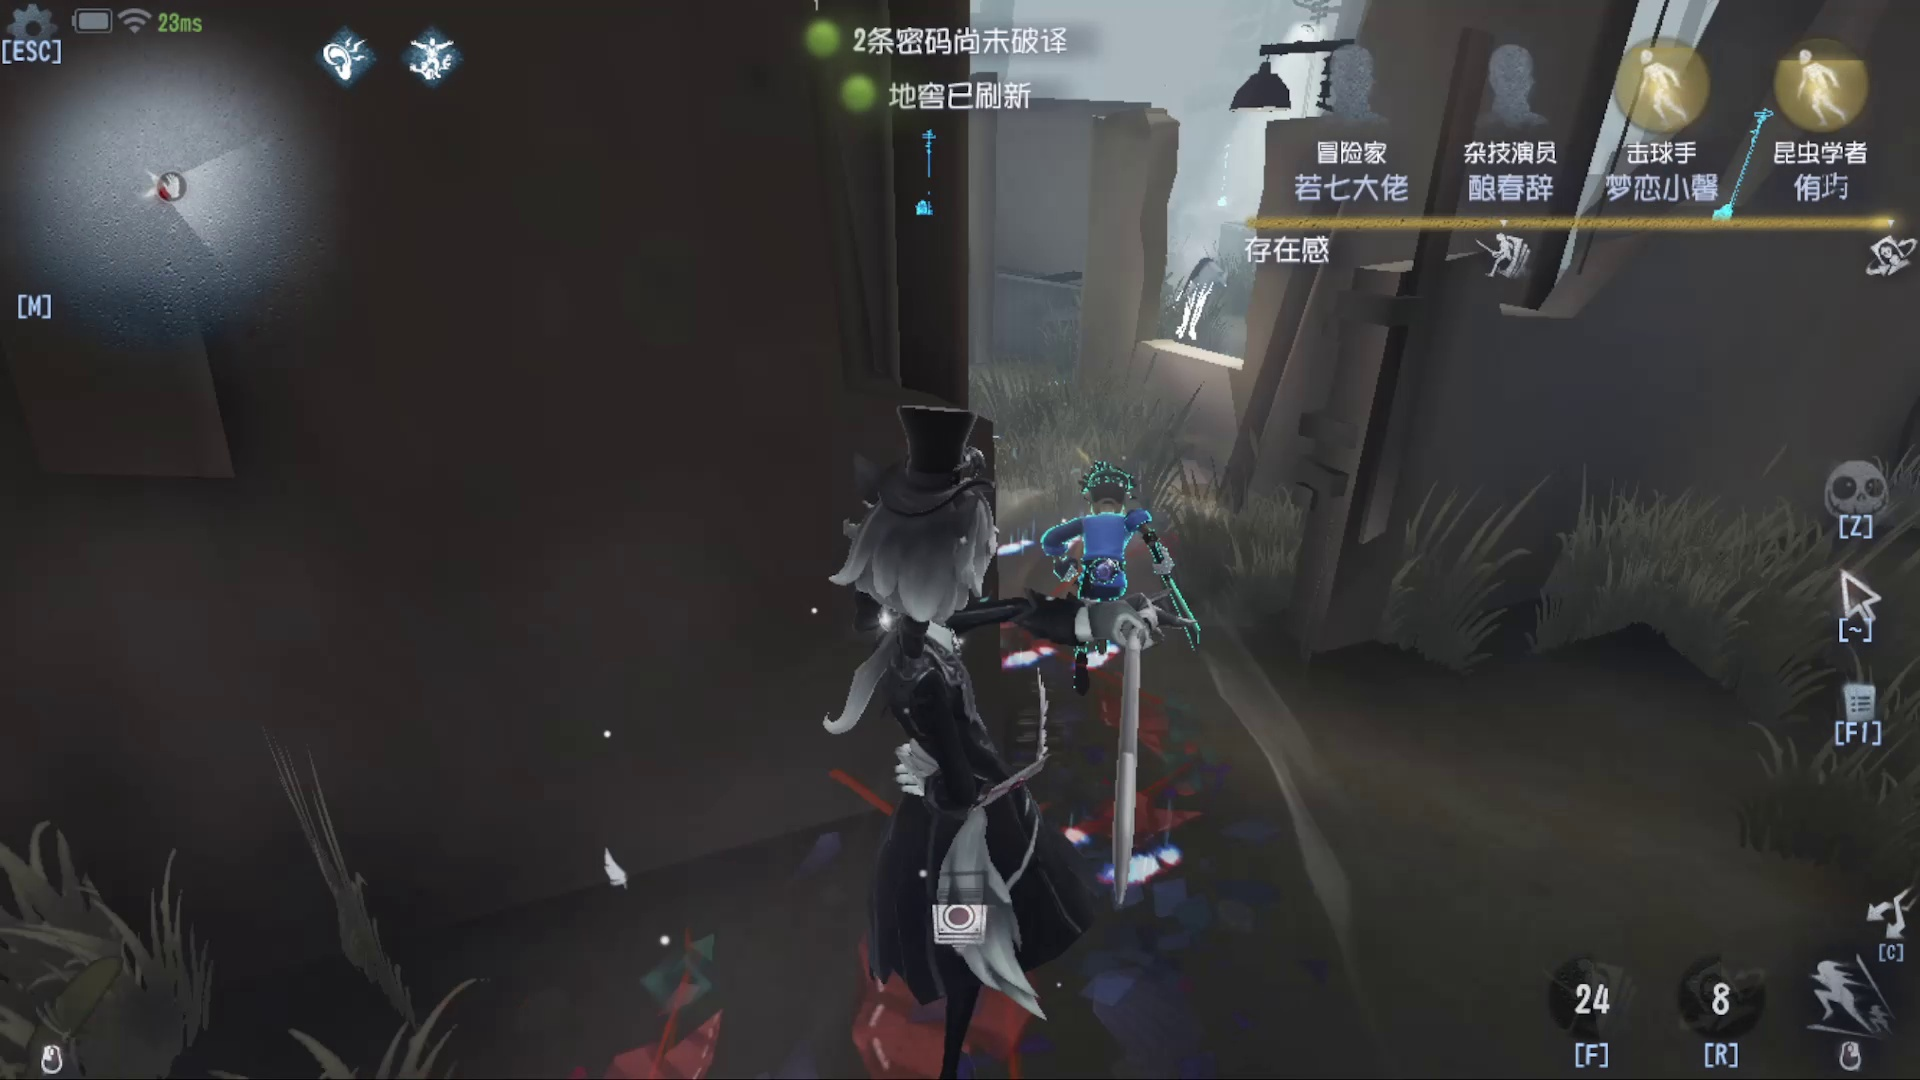求生者: (1033, 436, 1178, 651)
